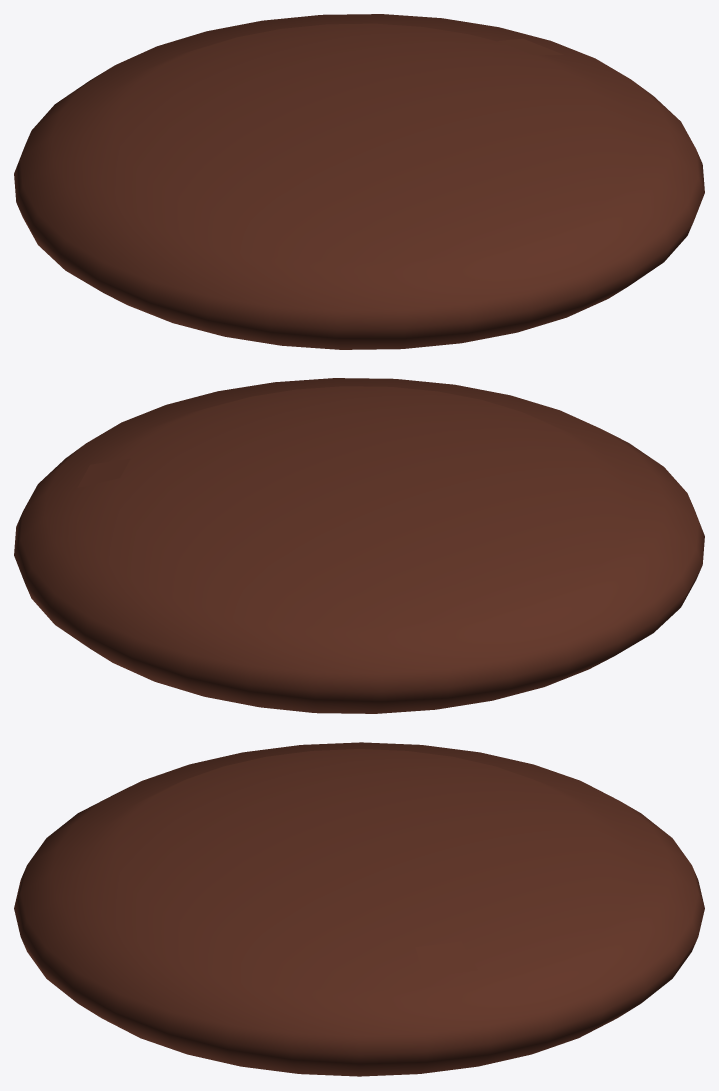
Rendered from 茄子種子.FBX.
The picture shows the model from 3 angles, top to bottom: view 1: azimuth 30°, elevation 25°; view 2: azimuth 150°, elevation 25°; view 3: azimuth 270°, elevation 25°; orthographic projection.
Visible parts, largest first — view 1: Sphere001; view 2: Sphere001; view 3: Sphere001.
Boxes of the visible parts, x1=… form: Sphere001: x1=14, y1=14, x2=704, y2=349; Sphere001: x1=14, y1=378, x2=704, y2=713; Sphere001: x1=14, y1=742, x2=704, y2=1076.
Size of the model in its own units: 7.31 by 1.86 by 7.31.
